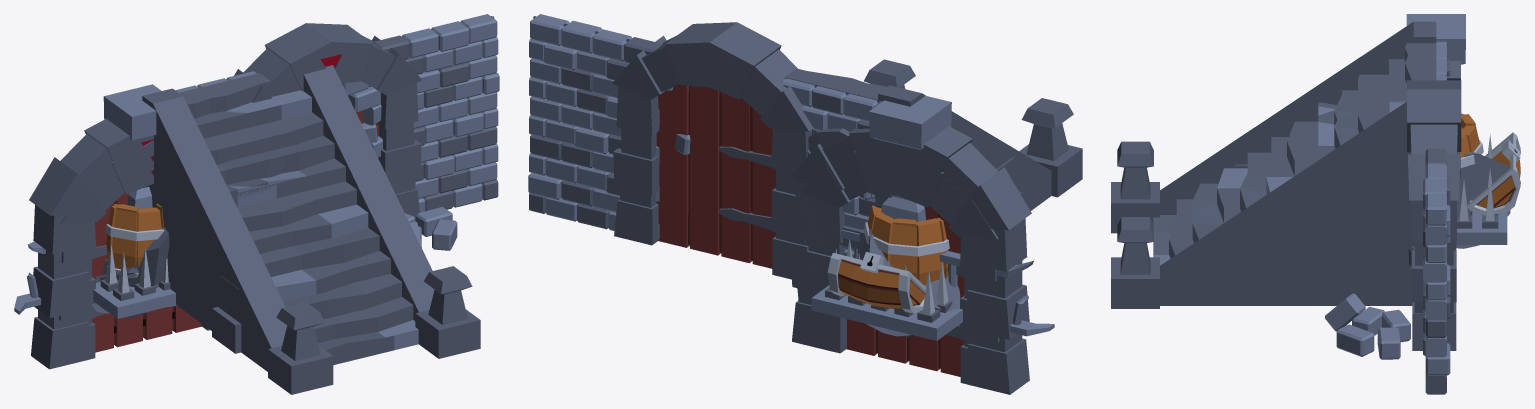
File: Dungeon.fbx
3 renders of one model, left to right at view 1: azimuth 30°, elevation 25°; view 2: azimuth 150°, elevation 25°; view 3: azimuth 270°, elevation 25°, orthographic. The views are drawn at different scales.
Parts seen in each view (by area): view 1: stairs.003, brick wall with bars, stairs handhail big, door arc.037, door arc, brick wall with bars.001, ruined wall, stairs, stairs.002, spikes floor, barrel, pillar (+4 smaller); view 2: brick wall with bars.001, door arc, brick wall with door.001, door arc.037, stairs handhail big, brick wall with bars, ruined wall, spikes floor, pillar, barrel, chest bottom, stairs.003 (+5 smaller); view 3: stairs.003, brick wall with bars.001, stairs handhail big, ruined wall, brick wall with bars, chest bottom, spikes floor, rock.003, pillar, stairs.002, barrel, stairs.
Boxes of the visible parts, <box> form: stairs.003: <box>179,65,480,358</box>; brick wall with bars: <box>175,14,498,221</box>; stairs handhail big: <box>142,88,333,394</box>; door arc.037: <box>29,118,174,369</box>; door arc: <box>59,141,209,366</box>; brick wall with bars.001: <box>200,16,499,212</box>; ruined wall: <box>181,15,497,250</box>; stairs: <box>194,82,394,364</box>; stairs.002: <box>186,81,315,207</box>; spikes floor: <box>93,244,175,318</box>; barrel: <box>105,203,164,278</box>; pillar: <box>103,84,161,208</box>; brick wall with bars.001: <box>528,20,869,283</box>; door arc: <box>800,150,999,391</box>; brick wall with door.001: <box>534,17,877,268</box>; door arc.037: <box>790,126,1031,394</box>; stairs handhail big: <box>878,85,1082,210</box>; brick wall with bars: <box>530,14,877,242</box>; ruined wall: <box>529,17,879,239</box>; spikes floor: <box>811,238,962,340</box>; pillar: <box>869,96,951,221</box>; barrel: <box>864,205,949,284</box>; chest bottom: <box>827,252,932,313</box>; stairs.003: <box>784,59,1068,156</box>; stairs.003: <box>1111,43,1436,308</box>; brick wall with bars.001: <box>1412,59,1461,394</box>; stairs handhail big: <box>1111,21,1436,233</box>; ruined wall: <box>1325,40,1446,377</box>; brick wall with bars: <box>1407,41,1456,377</box>; chest bottom: <box>1467,132,1520,215</box>; spikes floor: <box>1456,134,1507,244</box>; rock.003: <box>1457,152,1510,220</box>; pillar: <box>1406,14,1465,64</box>; stairs.002: <box>1318,43,1436,125</box>; barrel: <box>1459,113,1483,167</box>; stairs: <box>1176,59,1406,218</box>.
Size of the model in its own units: 865 by 454 by 609.
